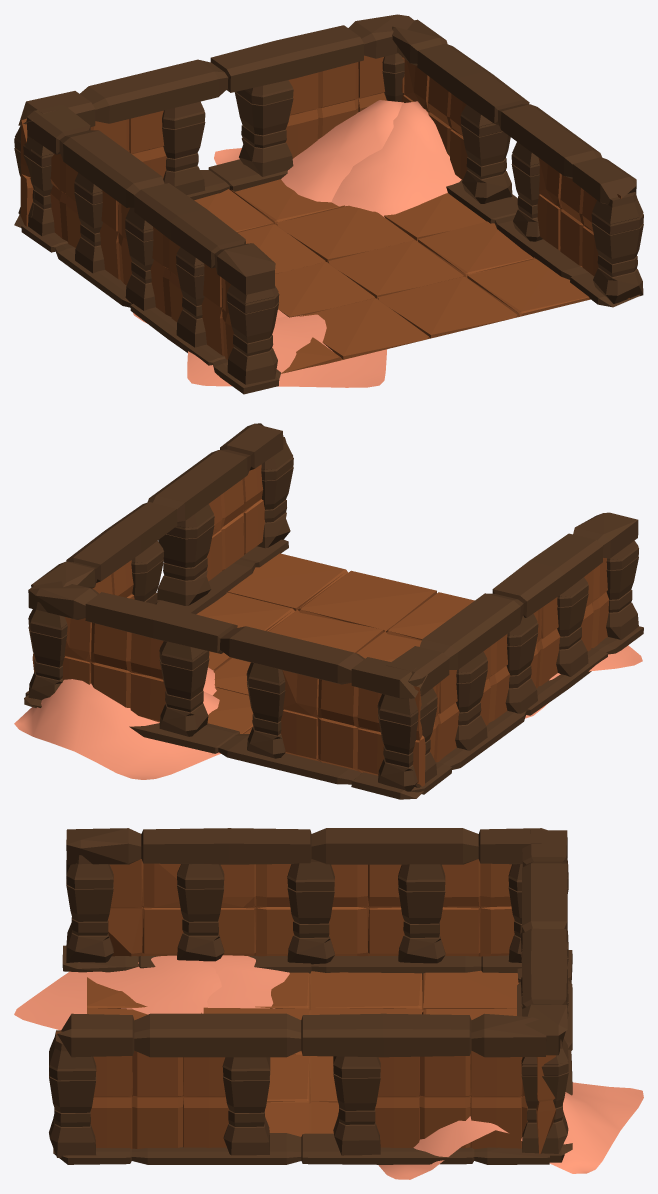
File: TopRRoom.fbx
3 renders of one model, top to bottom at view 1: azimuth 30°, elevation 25°; view 2: azimuth 150°, elevation 25°; view 3: azimuth 270°, elevation 25°, orthographic. The views are drawn at different scales.
Parts seen in each view (by area): view 1: floor.001, TopStone.005, TopStone.003, TopStone.006, WallMain.003, Sand.003, Plane.003, WallMain.005, Plane.001, Pillar.001, WallMain.006, Pillar.024 (+14 smaller); view 2: floor.001, TopStone.005, TopStone.003, TopStone.006, Plane.003, WallMain.004, WallMain.003, WallMain.005, wall.005, WallMain.006, Pillar.029, Pillar.024 (+14 smaller); view 3: WallMain.003, TopStone.006, floor.001, TopStone.003, WallMain.006, WallMain.007, TopStone.005, wall.006, Plane.001, Plane.003, wall.003, Pillar.001 (+12 smaller).
Boxes of the visible parts, x1=… form: floor.001: x1=194, y1=179, x2=590, y2=373; TopStone.005: x1=18, y1=14, x2=414, y2=126; TopStone.003: x1=27, y1=104, x2=275, y2=294; TopStone.006: x1=392, y1=19, x2=636, y2=204; WallMain.003: x1=50, y1=154, x2=233, y2=359; Sand.003: x1=331, y1=101, x2=461, y2=217; Plane.003: x1=214, y1=100, x2=404, y2=202; WallMain.005: x1=285, y1=55, x2=386, y2=158; Plane.001: x1=187, y1=314, x2=387, y2=387; Pillar.001: x1=591, y1=192, x2=643, y2=303; WallMain.006: x1=537, y1=158, x2=629, y2=298; Pillar.024: x1=234, y1=80, x2=293, y2=176; floor.001: x1=196, y1=553, x2=474, y2=733; TopStone.005: x1=28, y1=581, x2=427, y2=698; TopStone.003: x1=386, y1=512, x2=638, y2=696; TopStone.006: x1=31, y1=423, x2=283, y2=588; Plane.003: x1=14, y1=679, x2=220, y2=779; WallMain.004: x1=280, y1=670, x2=425, y2=786; WallMain.003: x1=429, y1=558, x2=609, y2=762; WallMain.005: x1=32, y1=617, x2=165, y2=722; wall.005: x1=24, y1=695, x2=423, y2=799; WallMain.006: x1=206, y1=464, x2=265, y2=581; Pillar.029: x1=157, y1=504, x2=214, y2=605; Pillar.024: x1=159, y1=641, x2=209, y2=736; WallMain.003: x1=108, y1=859, x2=514, y2=956; TopStone.006: x1=57, y1=1013, x2=546, y2=1057; floor.001: x1=87, y1=970, x2=519, y2=1136; TopStone.003: x1=66, y1=828, x2=547, y2=864; WallMain.006: x1=56, y1=1031, x2=229, y2=1148; WallMain.007: x1=375, y1=1051, x2=527, y2=1149; TopStone.005: x1=522, y1=830, x2=567, y2=1055; wall.006: x1=53, y1=1133, x2=549, y2=1164; Plane.001: x1=14, y1=955, x2=221, y2=1030; Plane.003: x1=521, y1=1082, x2=643, y2=1173; wall.003: x1=62, y1=945, x2=521, y2=974; Pillar.001: x1=49, y1=1030, x2=96, y2=1157.
Bounding box in the file's own units: 4906 × 1456 × 5698.
